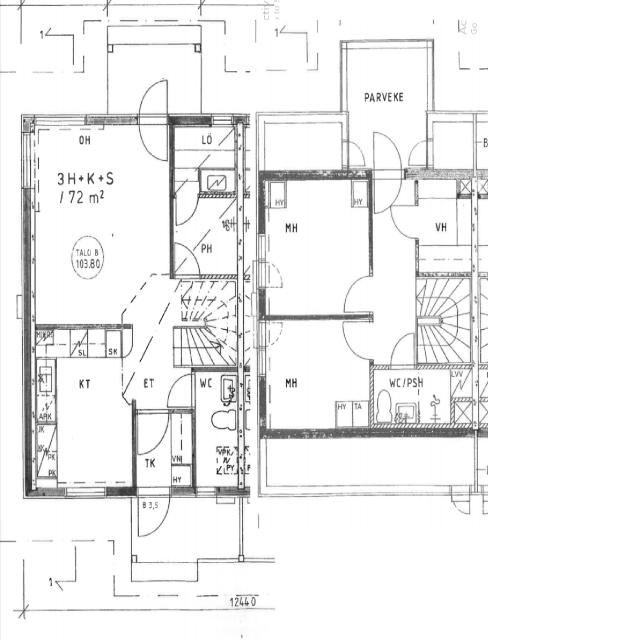door: (136, 74, 171, 165), (370, 127, 404, 216), (132, 406, 172, 459), (135, 484, 172, 541), (339, 316, 376, 362), (338, 270, 376, 314), (388, 201, 422, 242), (165, 369, 197, 411), (387, 328, 418, 371), (173, 242, 202, 278), (258, 258, 288, 292), (406, 136, 432, 170), (342, 137, 368, 171), (448, 484, 472, 518), (260, 317, 286, 348), (119, 332, 135, 359)
window: (17, 131, 38, 197), (36, 112, 88, 133), (62, 480, 109, 502), (253, 224, 270, 264), (256, 345, 270, 385), (195, 483, 219, 504), (208, 111, 233, 129)
zone: (26, 125, 170, 332), (32, 327, 133, 491), (260, 175, 372, 321), (260, 315, 373, 436), (368, 364, 474, 431), (170, 194, 240, 278), (194, 368, 241, 493), (415, 181, 475, 277), (172, 122, 240, 195), (177, 276, 239, 356), (428, 114, 477, 178)
